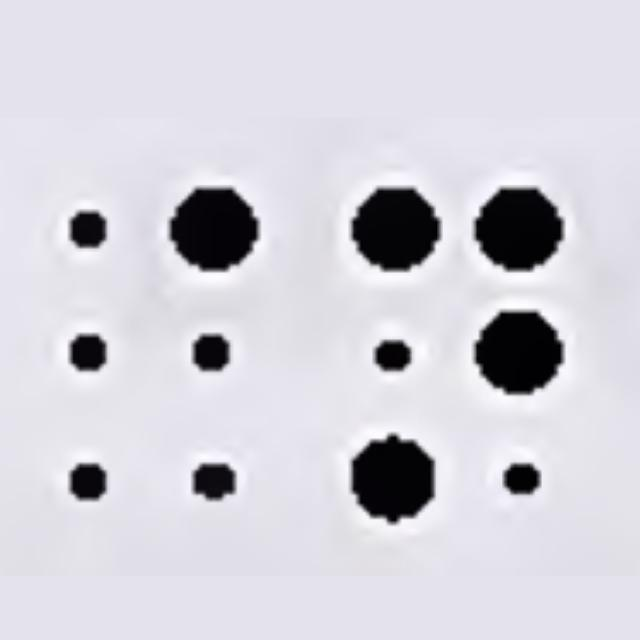dot_4: (60, 186, 262, 501)
enye: (349, 182, 568, 524)
